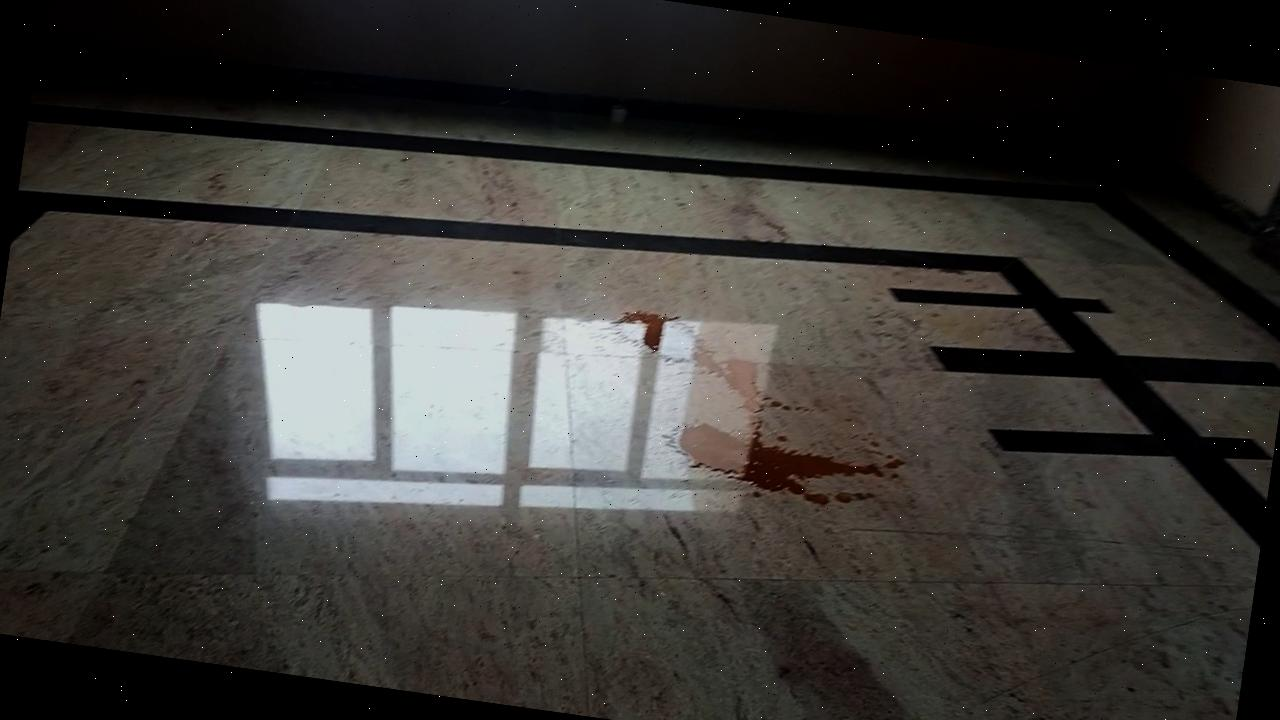dirty_floor: (585, 309, 914, 522)
